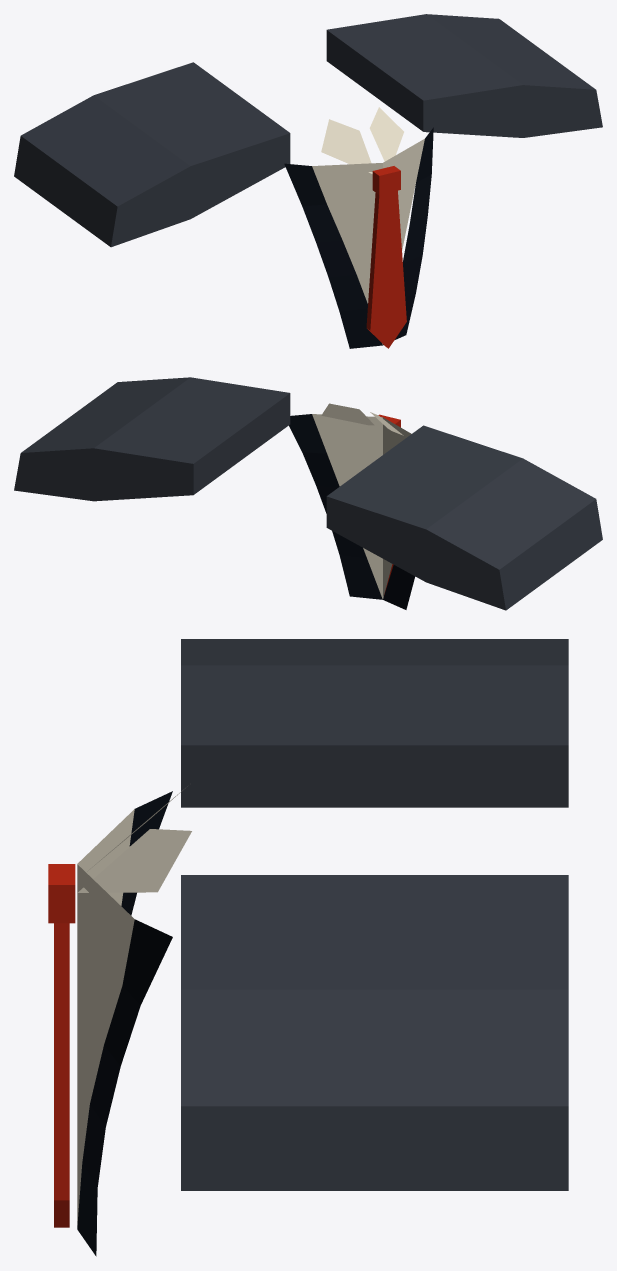
Rendered from le-z-suit.glb.
3 views of the same model, one above another, from view 1: azimuth 30°, elevation 25°; view 2: azimuth 150°, elevation 25°; view 3: azimuth 270°, elevation 25° (orthographic). The views are drawn at different scales.
Parts seen in each view (by area): view 1: le-z-suit; view 2: le-z-suit; view 3: le-z-suit.
Boxes of the visible parts, x1=… form: le-z-suit: x1=14, y1=14, x2=602, y2=348; le-z-suit: x1=14, y1=377, x2=602, y2=610; le-z-suit: x1=48, y1=639, x2=568, y2=1256.
Bounding box in the file's own units: 0.592 × 0.243 × 0.271.
1 material, 1 textured.
